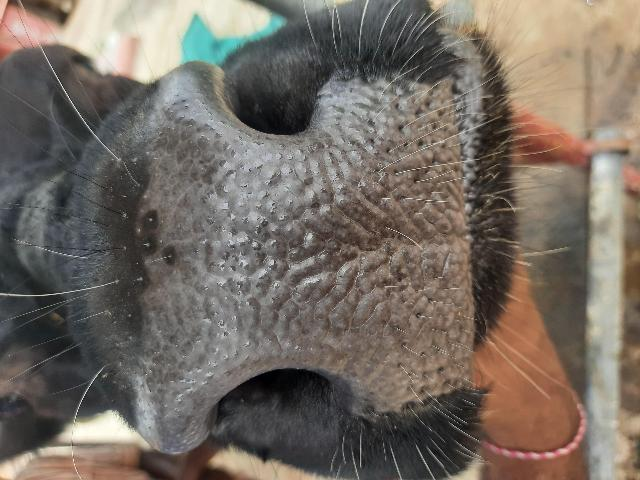Muzzle: (163, 144, 471, 366)
